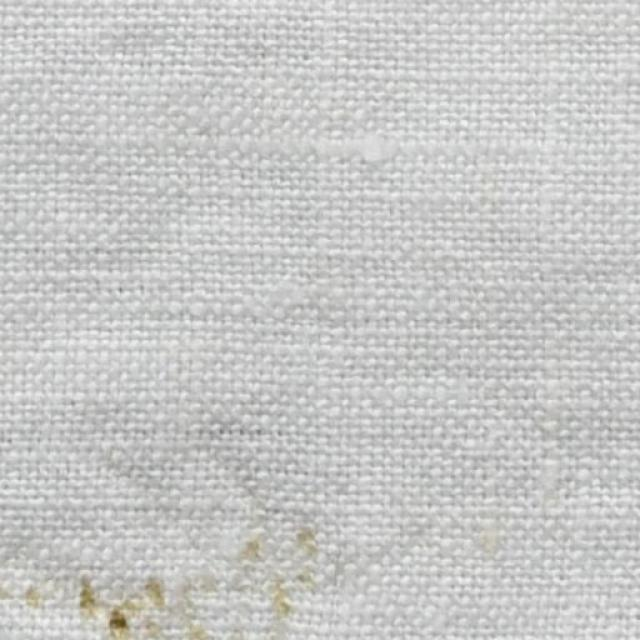Stain: (0, 510, 405, 639)
